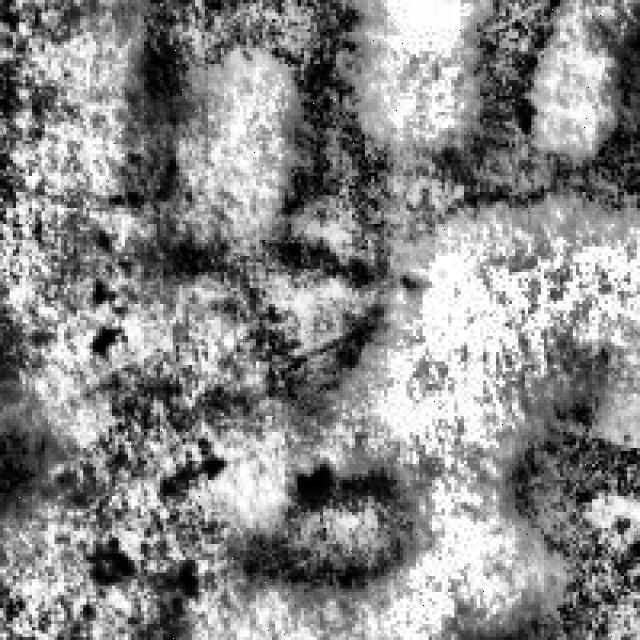Scratches: (166, 0, 438, 413), (442, 0, 640, 217), (502, 365, 640, 637), (128, 0, 378, 115), (247, 454, 436, 589), (4, 403, 70, 509)
